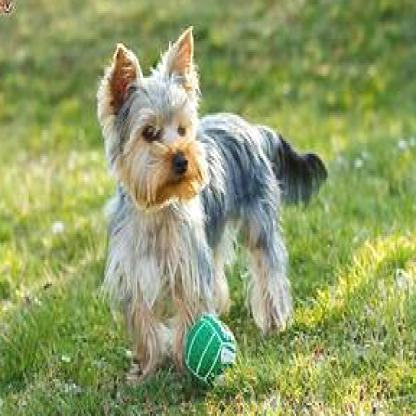dog: (98, 24, 328, 366)
